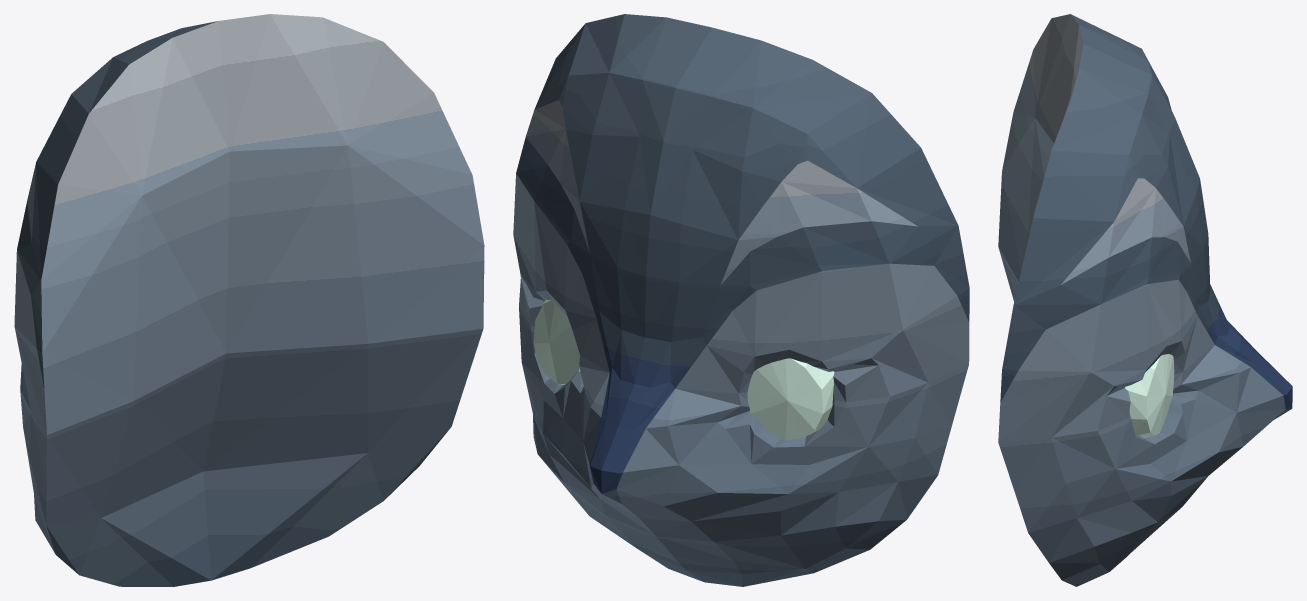
The model's file is CharSkyKid_Mask_AP14Surprised_01.glb.
3 views of the same model, side by side, from view 1: azimuth 30°, elevation 25°; view 2: azimuth 150°, elevation 25°; view 3: azimuth 270°, elevation 25° (orthographic). The views are drawn at different scales.
Parts seen in each view (by area): view 1: CharSkyKid_Mask_AP14Surprised_01; view 2: CharSkyKid_Mask_AP14Surprised_01; view 3: CharSkyKid_Mask_AP14Surprised_01.
Part boxes in pixels (box(x1,y1,x2,y2)): CharSkyKid_Mask_AP14Surprised_01: box(14, 14, 484, 586); CharSkyKid_Mask_AP14Surprised_01: box(513, 14, 969, 586); CharSkyKid_Mask_AP14Surprised_01: box(998, 14, 1292, 586).
Bounding box in the file's own units: 2.14 × 2.61 × 1.34.
Materials: 1 (1 with a texture image).
